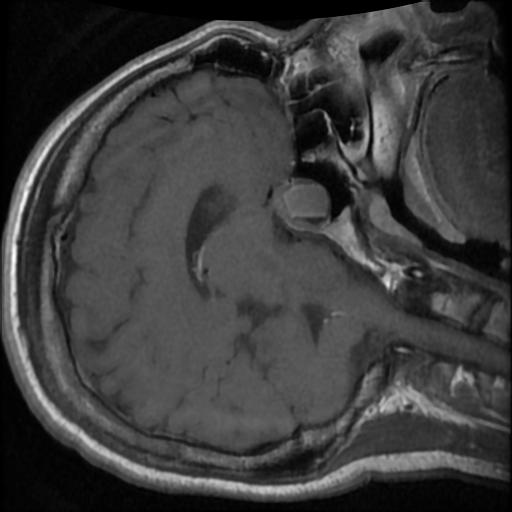pituitary tumour: (272, 179, 329, 231)
